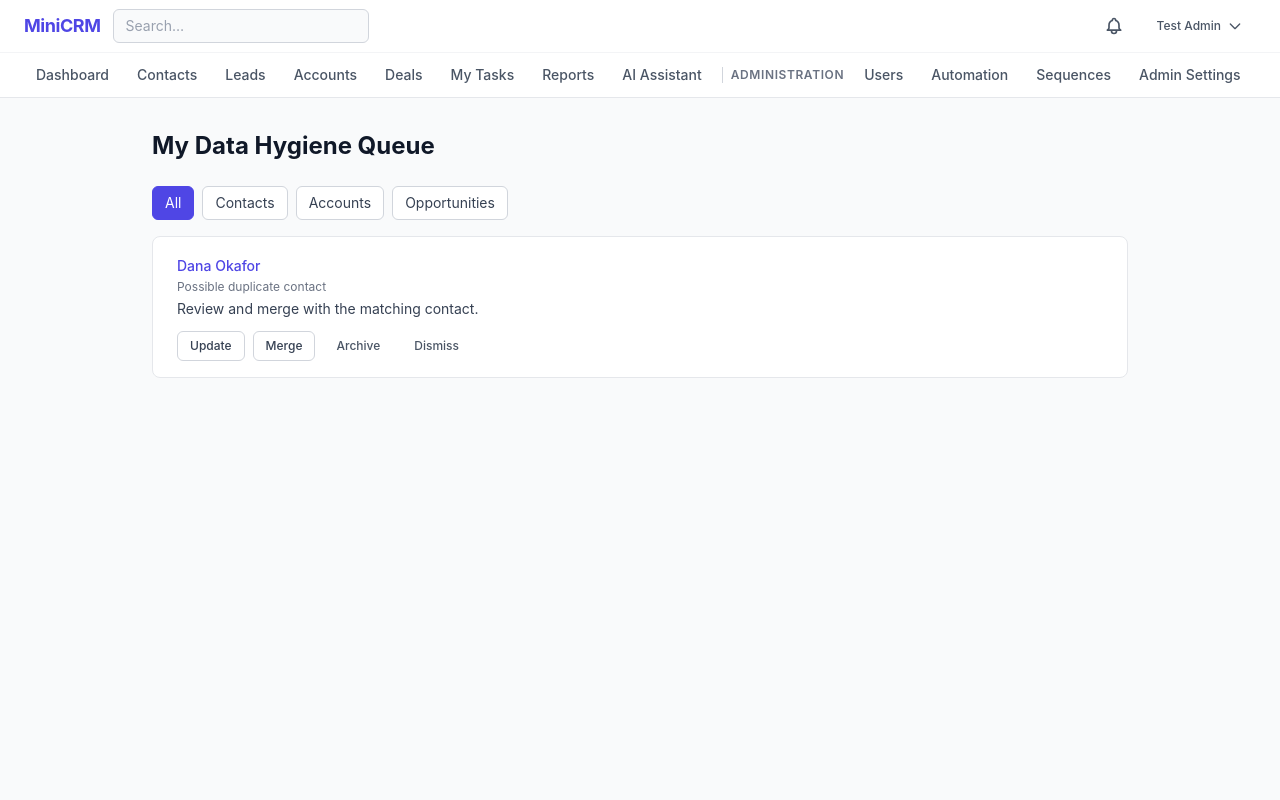
DataHygienePage › merges the selected winner/loser pair and closes the dialog on success
This screenshot has width=1280, height=800.
Click the button "Merge": (284, 346) [253,331,316,361]
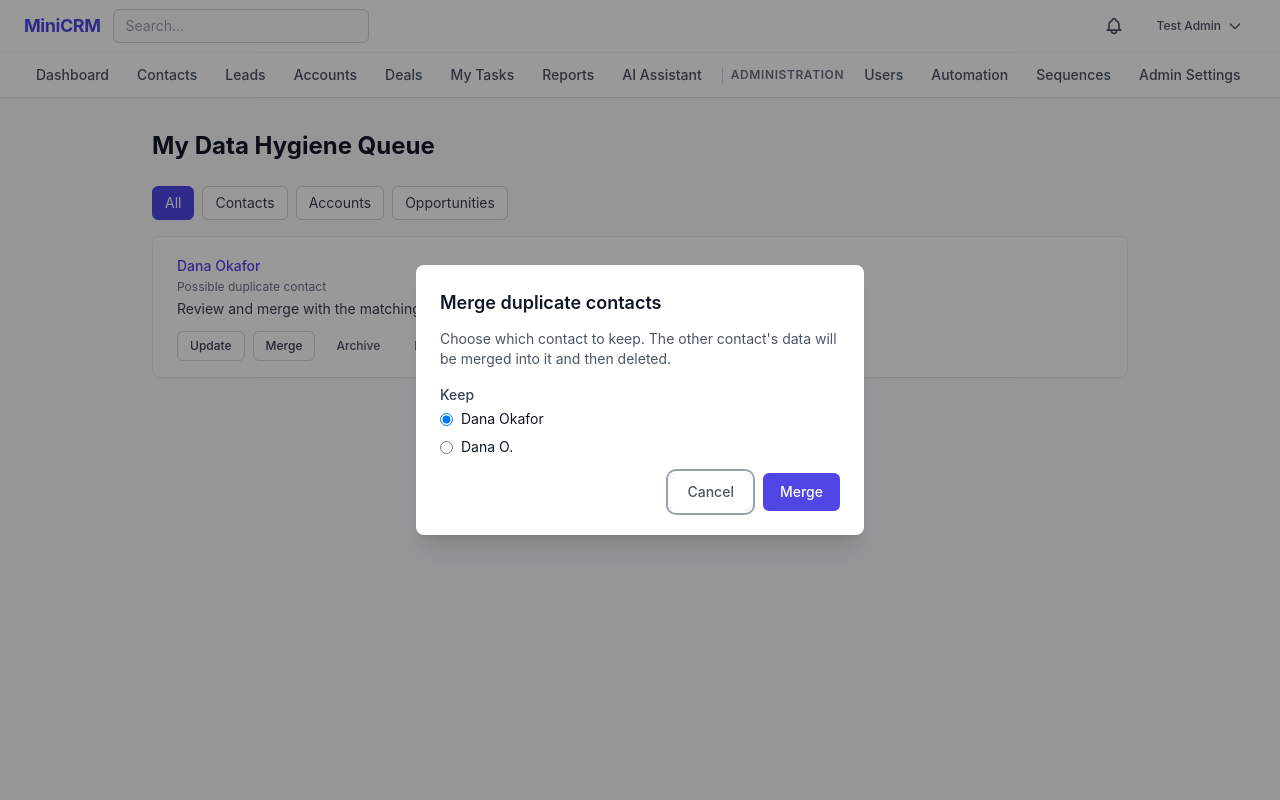
Expected: the dialog with test id "data-hygiene-merge-dialog" is shown
Click the button with test id "data-hygiene-merge-confirm": (802, 492) [763,473,840,511]
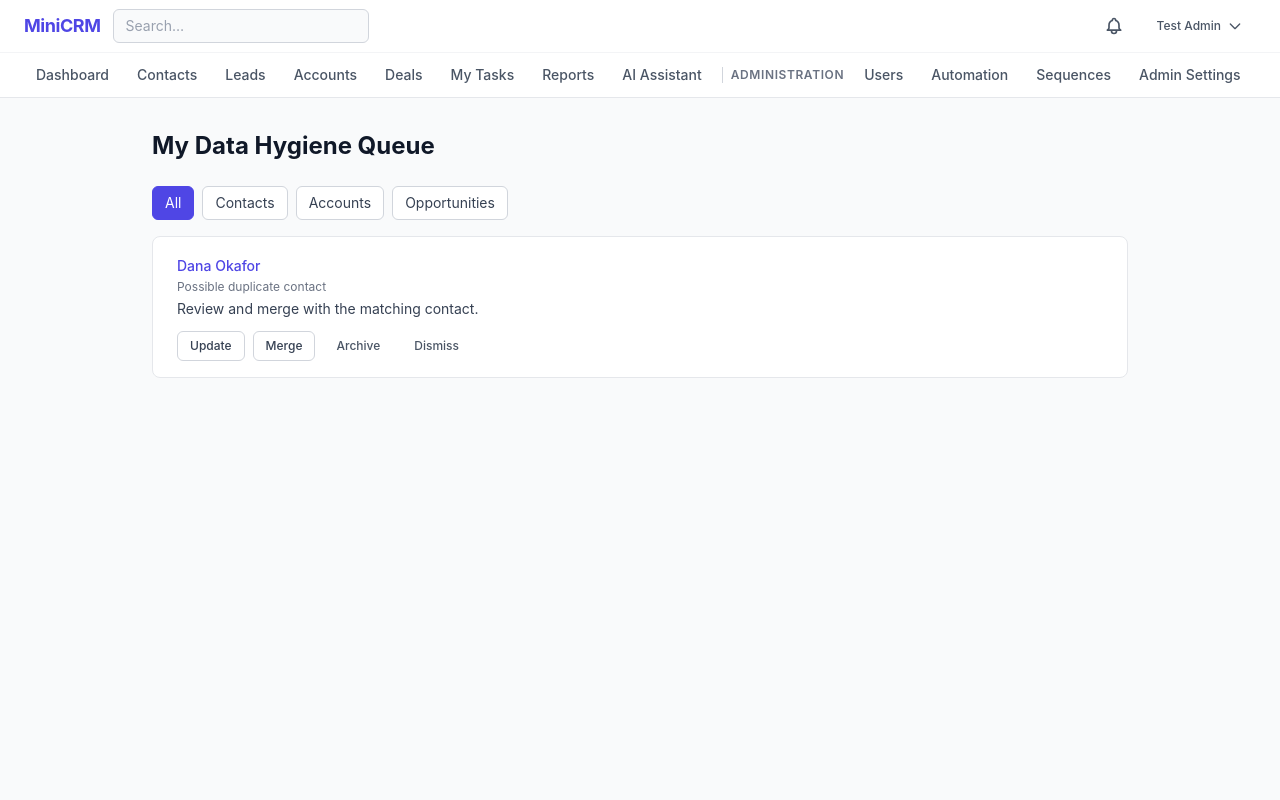
Expected: the dialog with test id "data-hygiene-merge-dialog" is gone
